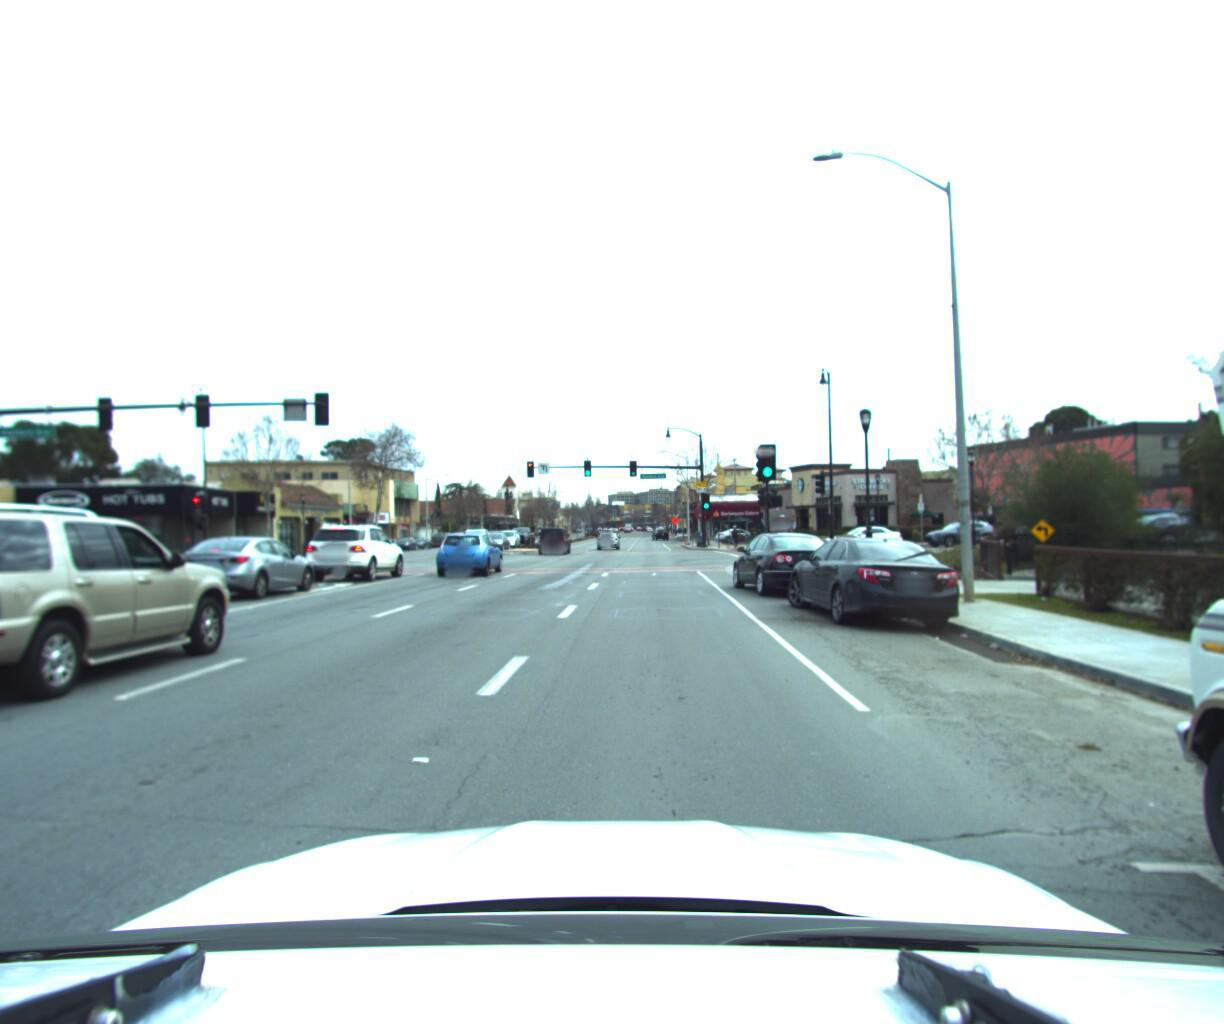bicycle: (761, 509, 806, 567), (720, 519, 746, 545), (738, 527, 761, 542)
car: (782, 527, 966, 635), (159, 531, 326, 608), (725, 526, 847, 599), (297, 521, 408, 585), (435, 526, 506, 576), (916, 513, 994, 542), (818, 520, 900, 547), (336, 519, 392, 554), (537, 524, 572, 554), (478, 529, 511, 550), (594, 527, 617, 547)
